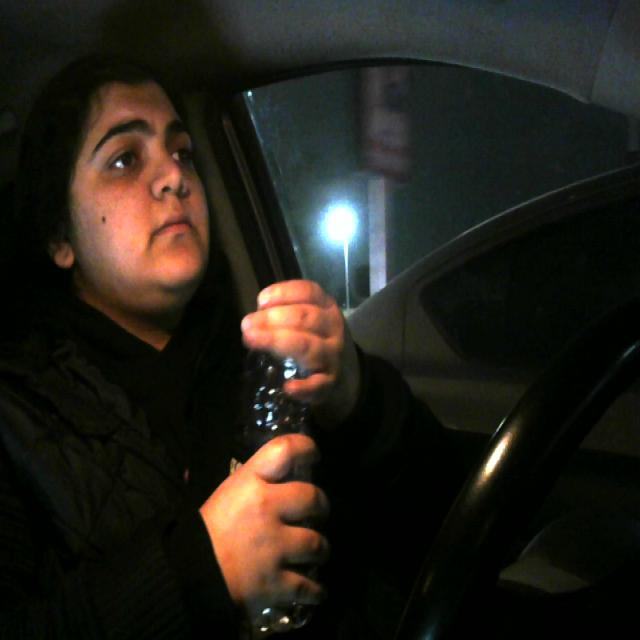drinking: (234, 302, 333, 640)
